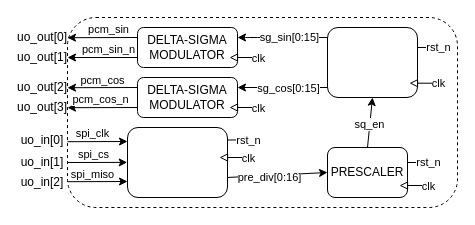
Image size: 475x225. Some labels were removed from this diagram. Here are the shapes that lost their labels. From the top down, the box of each, then its label:
(326, 26, 418, 98): SIGNAL GENERATOR
(126, 126, 228, 198): SPI INTERFACE
